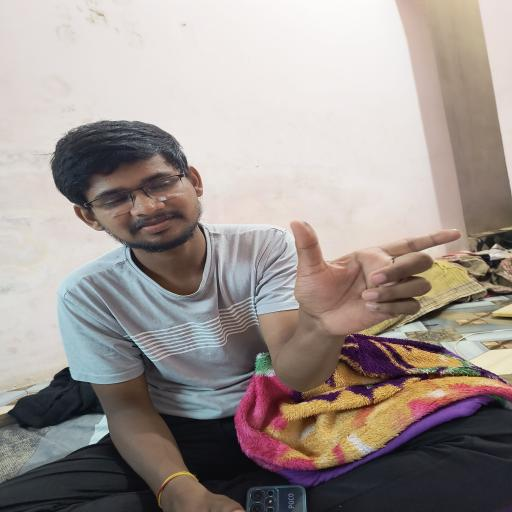Sorry: (264, 209, 481, 348)
